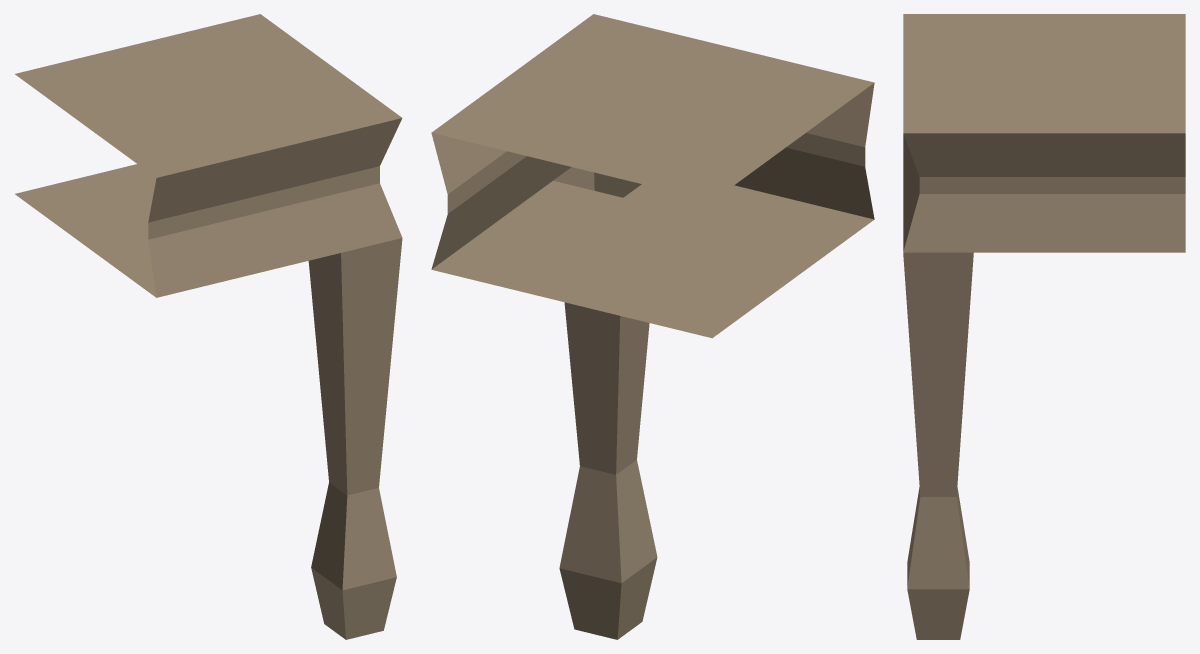
File: table.dae
3 views of the same model, side by side, from view 1: azimuth 30°, elevation 25°; view 2: azimuth 150°, elevation 25°; view 3: azimuth 270°, elevation 25° (orthographic). The views are drawn at different scales.
Parts seen in each view (by area): view 1: Cube; view 2: Cube; view 3: Cube.
Boxes of the visible parts, x1,y1,x2,y2 form: Cube: [15, 14, 402, 639]; Cube: [431, 14, 874, 639]; Cube: [903, 14, 1185, 639].
Bounding box in the file's own units: 0.5 × 0.5 × 1.
